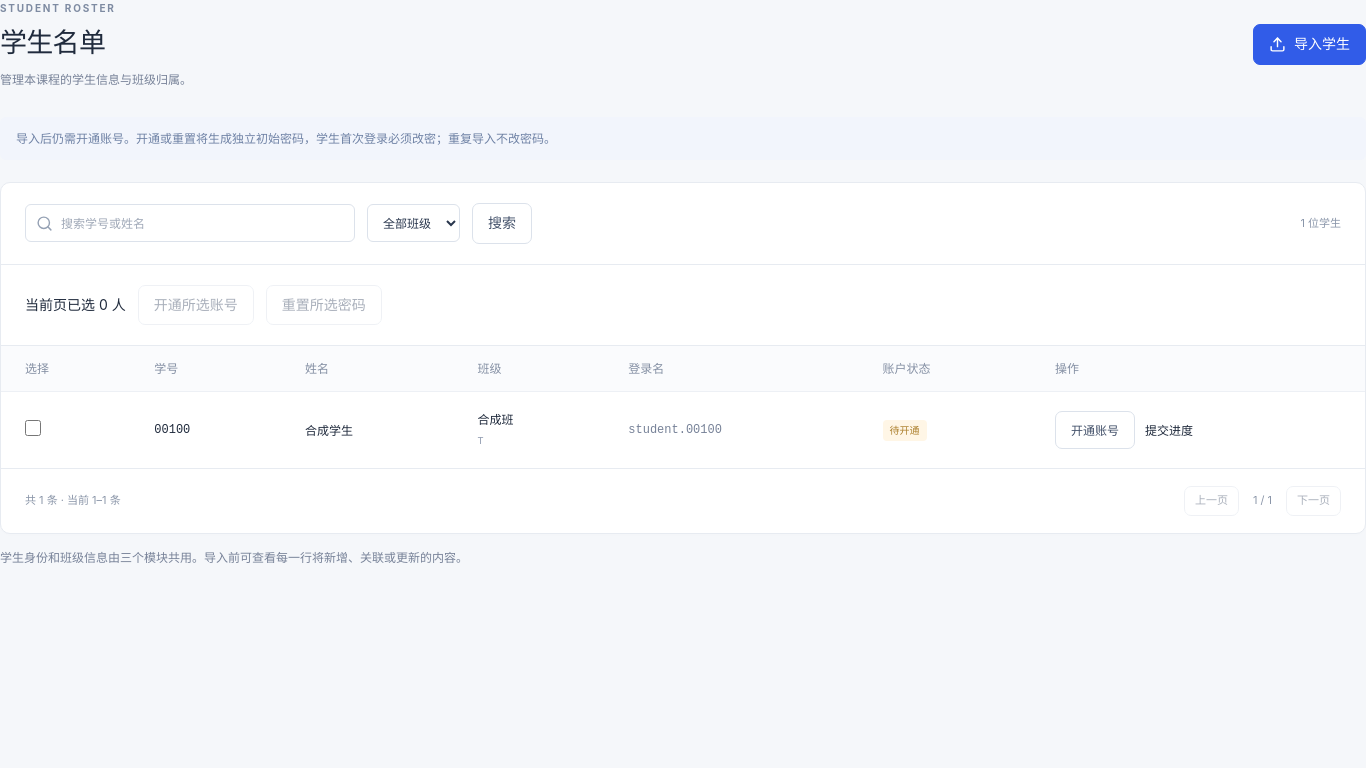
it: leaving with undistributed credentials respects cancellation
The image size is (1366, 768).
Click the button "开通账号".
click(1095, 430)  # box [1055,411,1135,449]
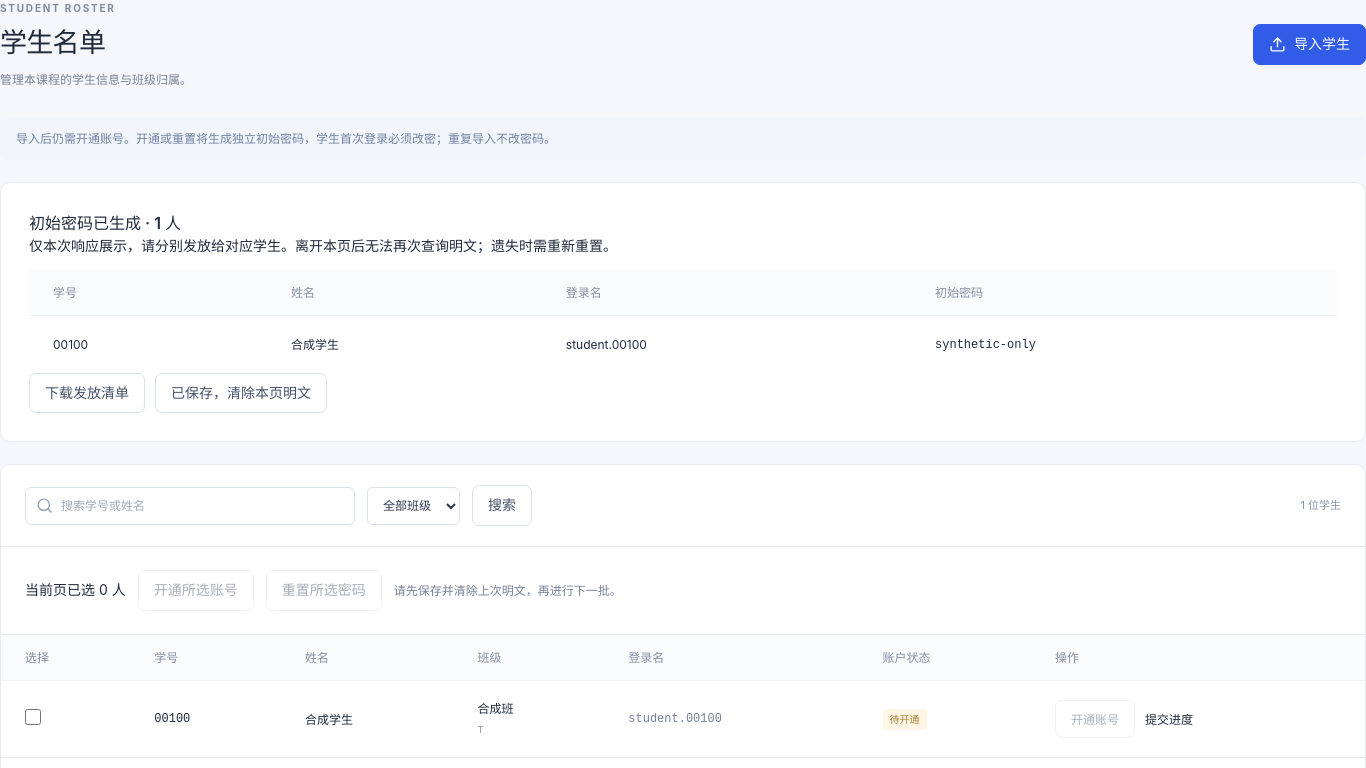
Result: the text "synthetic-only" is shown at [935,338,1036,352]
